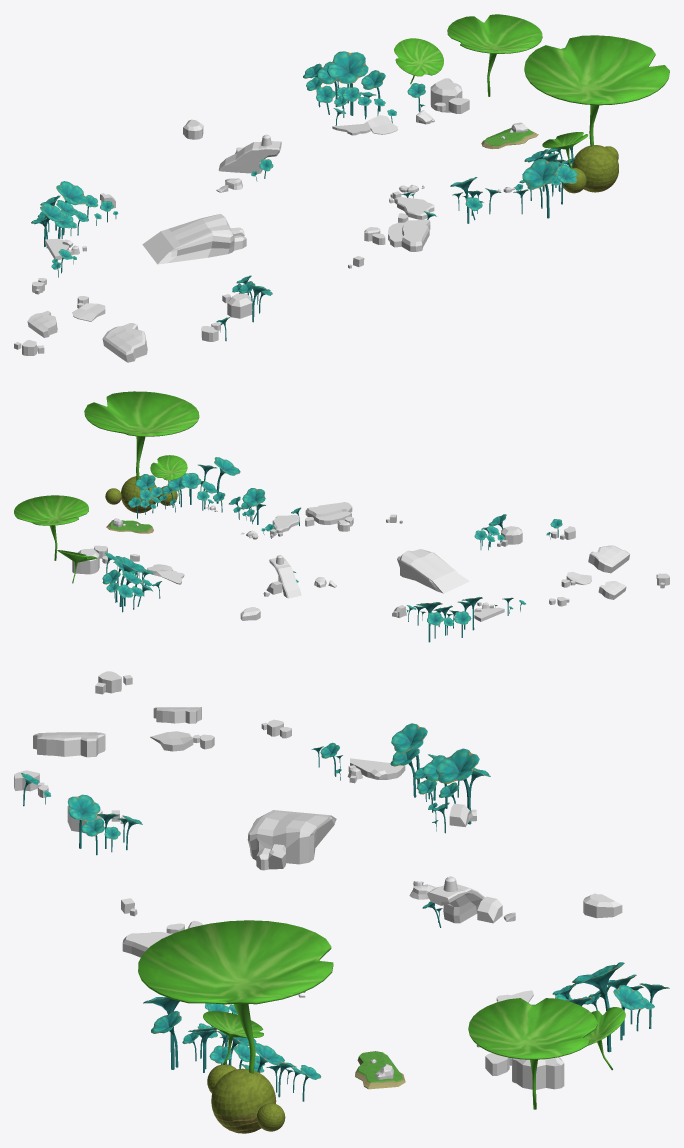
File: TexturedEnviromentV2.fbx
3 renders of one model, top to bottom at view 1: azimuth 30°, elevation 25°; view 2: azimuth 150°, elevation 25°; view 3: azimuth 270°, elevation 25°, orthographic. The views are drawn at different scales.
Parts seen in each view (by area): view 1: Cone.004, Cube.062, Cone.002, Sphere, Cone.001, Cube.040, Cube.012, Cube.028, Cylinder.002, Cylinder.022, Cube.056, Cube.009 (+6 smaller); view 2: Cone.004, Cone.002, Cube.062, Cube.040, Cube.028, Cone.005, Cube.012, Sphere, Cube.009, Cube.010, Cube.056, Cube.023; view 3: Cone.004, Cone.002, Cube.062, Sphere, Cube.040, Cube.009, Cube.012, Cube.010, Cylinder.054, Cone.005, Cone.001, Cylinder.062 (+5 smaller).
Boxes of the visible parts, x1=… form: Cone.004: x1=524, y1=35, x2=669, y2=146; Cube.062: x1=142, y1=214, x2=246, y2=264; Cone.002: x1=447, y1=14, x2=542, y2=96; Sphere: x1=572, y1=145, x2=618, y2=192; Cone.001: x1=394, y1=38, x2=443, y2=84; Cube.040: x1=102, y1=323, x2=147, y2=362; Cube.012: x1=218, y1=141, x2=281, y2=173; Cube.028: x1=388, y1=219, x2=430, y2=251; Cylinder.002: x1=327, y1=51, x2=368, y2=115; Cylinder.022: x1=522, y1=159, x2=558, y2=218; Cube.056: x1=332, y1=115, x2=397, y2=135; Cube.009: x1=430, y1=78, x2=462, y2=112; Cone.004: x1=84, y1=391, x2=199, y2=480; Cone.002: x1=14, y1=495, x2=88, y2=560; Cube.062: x1=397, y1=549, x2=469, y2=593; Cube.040: x1=588, y1=545, x2=629, y2=573; Cube.028: x1=305, y1=502, x2=352, y2=524; Cone.005: x1=150, y1=455, x2=187, y2=482; Cube.012: x1=269, y1=557, x2=301, y2=598; Sphere: x1=121, y1=476, x2=156, y2=513; Cube.009: x1=72, y1=548, x2=99, y2=574; Cube.010: x1=106, y1=520, x2=153, y2=533; Cube.056: x1=147, y1=564, x2=184, y2=584; Cube.023: x1=272, y1=515, x2=299, y2=533; Cone.004: x1=138, y1=920, x2=333, y2=1073; Cone.002: x1=468, y1=998, x2=597, y2=1109; Cube.062: x1=247, y1=810, x2=336, y2=870; Sphere: x1=211, y1=1068, x2=276, y2=1133; Cube.040: x1=33, y1=732, x2=105, y2=757; Cube.009: x1=512, y1=1057, x2=564, y2=1089; Cube.012: x1=427, y1=884, x2=485, y2=923; Cube.010: x1=355, y1=1051, x2=405, y2=1089; Cylinder.054: x1=436, y1=748, x2=479, y2=824; Cone.005: x1=203, y1=1011, x2=263, y2=1064; Cone.001: x1=584, y1=1007, x2=625, y2=1070; Cylinder.062: x1=391, y1=723, x2=427, y2=784.
Size of the model in its own units: 15615 by 2756 by 9481.
